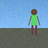person: (28, 9, 40, 35)
